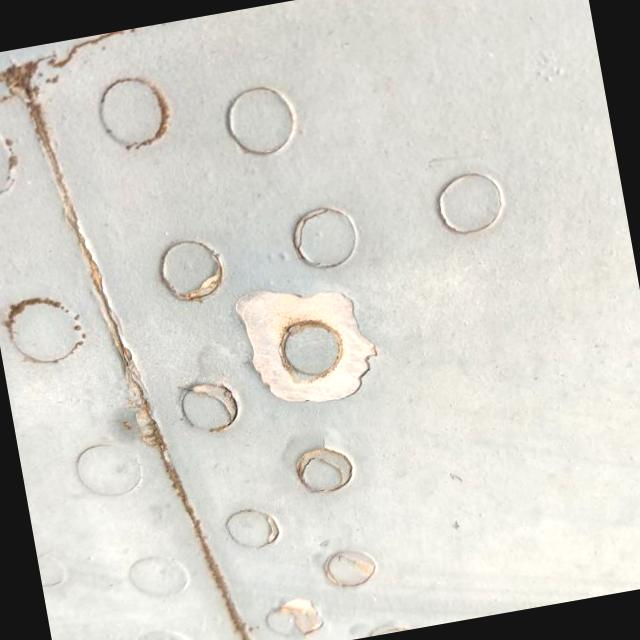paint-off: (202, 249, 410, 446)
